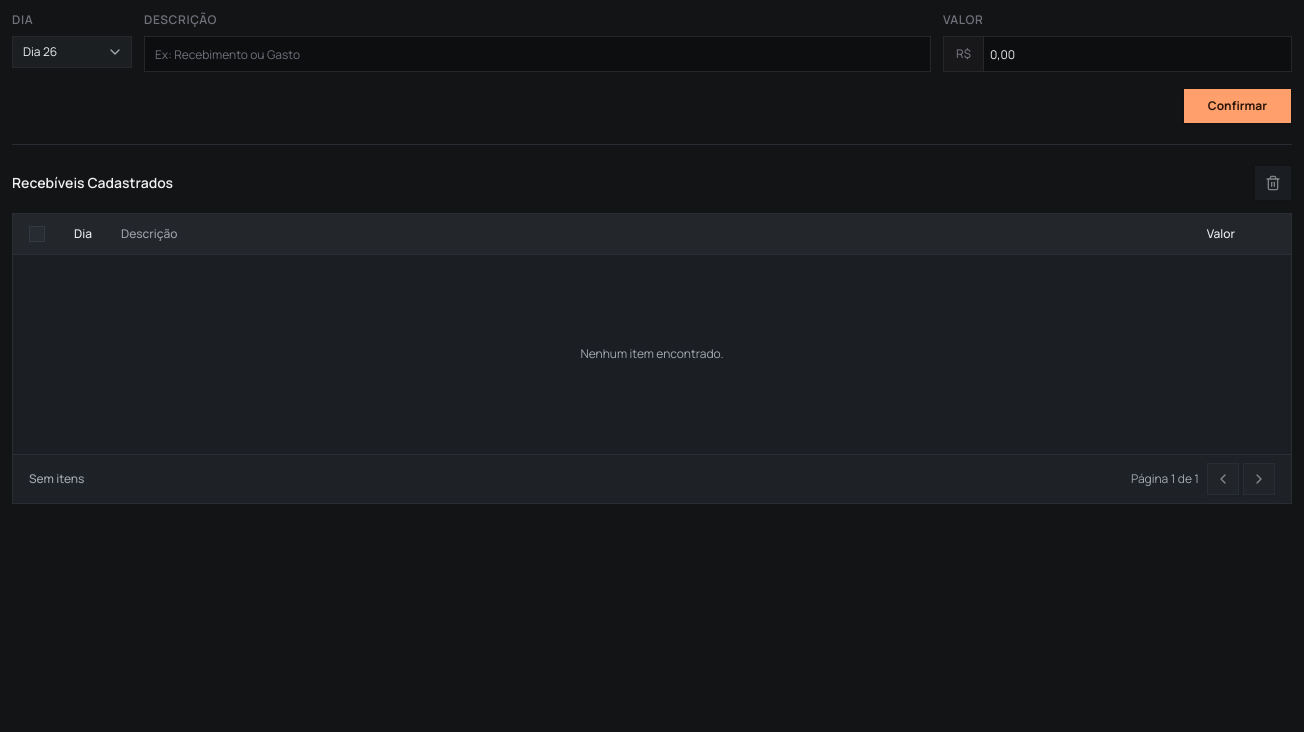
Test: TransactionManager › shows validation errors and does not save an empty form
Click the button "Confirmar" at (1237, 106), box left=1183, top=88, right=1292, bottom=124
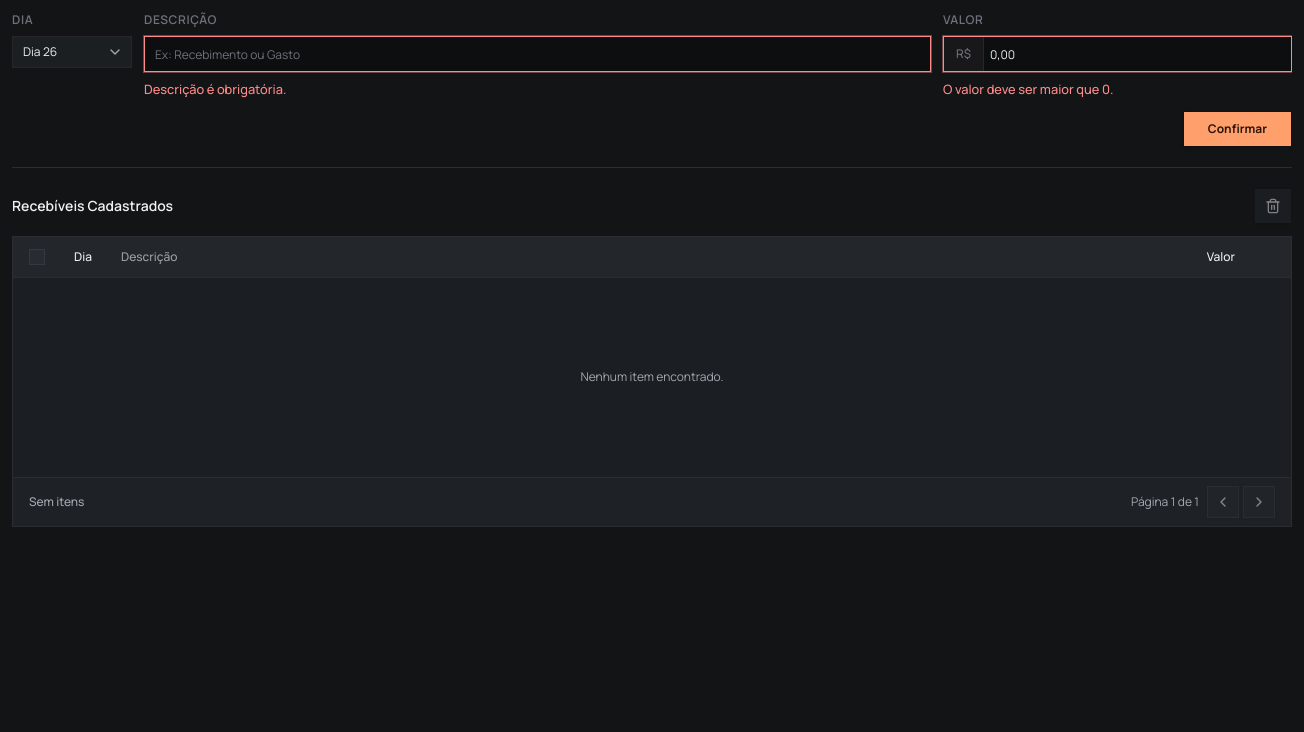
Check: the text "Descrição é obrigatória." is shown, box left=144, top=80, right=286, bottom=98
Check: the text "O valor deve ser maior que 0." is shown, box left=943, top=80, right=1113, bottom=98
